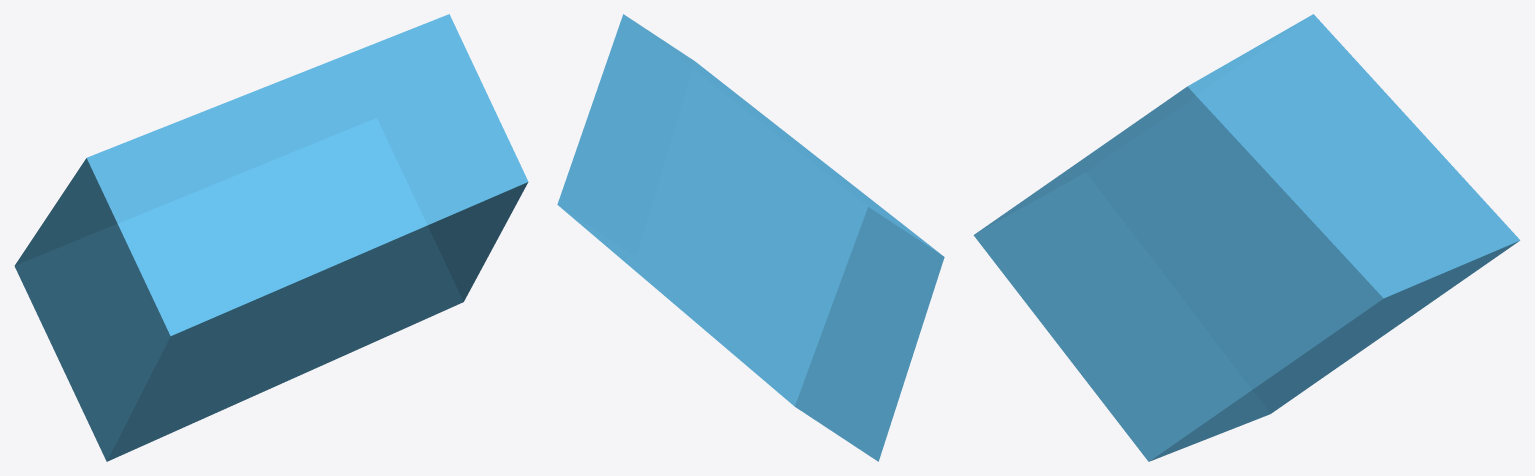
The model's file is Event_420604493_HErechit_24.fbx.
3 renders of one model, left to right at view 1: azimuth 30°, elevation 25°; view 2: azimuth 150°, elevation 25°; view 3: azimuth 270°, elevation 25°, orthographic. The views are drawn at different scales.
Visible parts, largest first — view 1: Model; view 2: Model; view 3: Model.
Part boxes in pixels (x1,y1,x2,y2): Model: (14,14,528,461); Model: (557,14,944,461); Model: (973,14,1520,461).
Bounding box in the file's own units: 0.7038 × 0.8388 × 0.7795.
